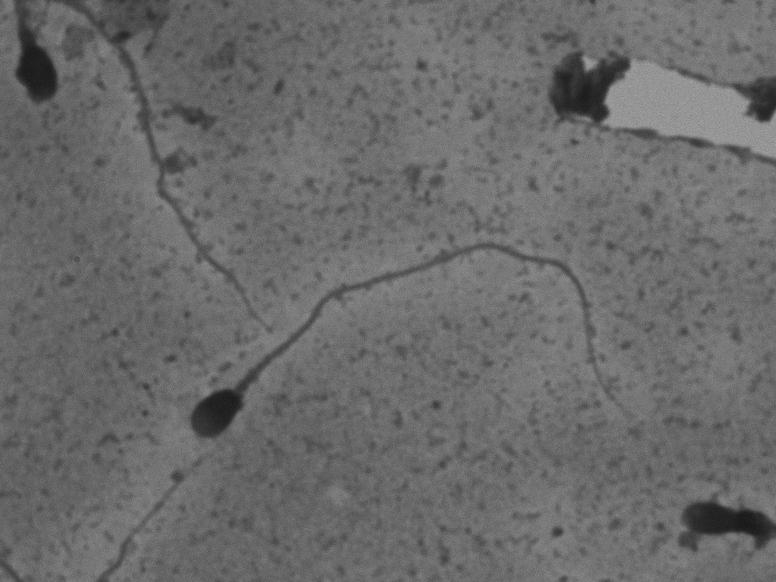Normal: (176, 228, 636, 468)
